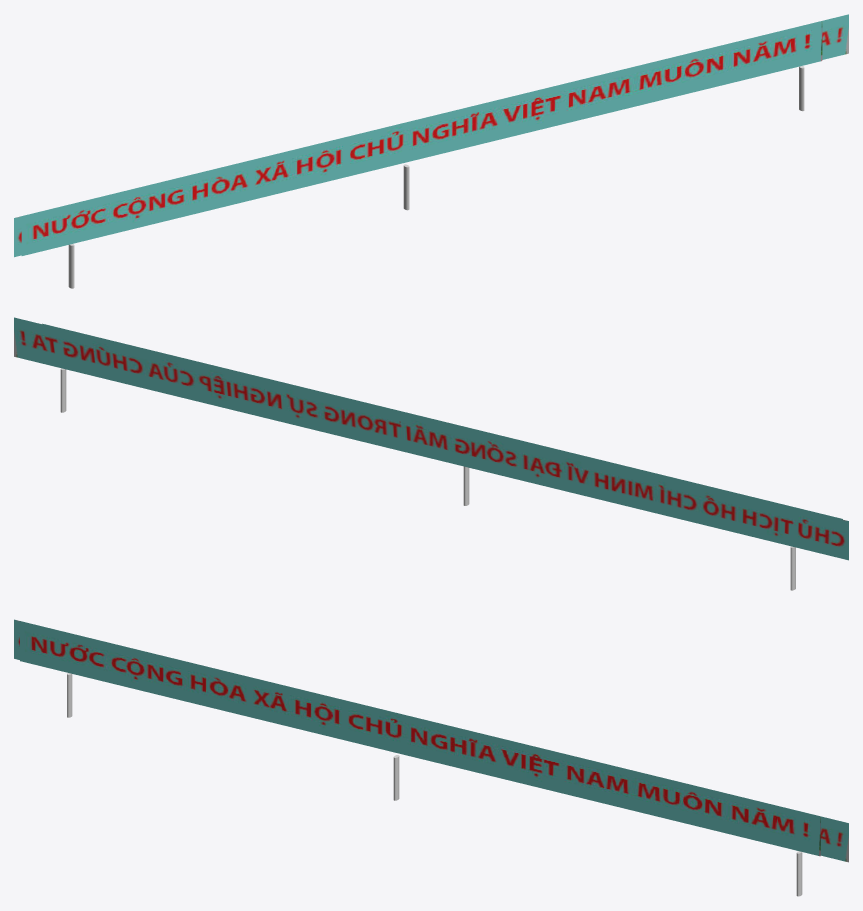
File: banner2.glb
3 views of the same model, one above another, from view 1: azimuth 30°, elevation 25°; view 2: azimuth 150°, elevation 25°; view 3: azimuth 330°, elevation 25° (orthographic).
Parts seen in each view (by area): view 1: Screenshot 2023-11-28 154038, Screenshot 2023-11-29 163435; view 2: Screenshot 2023-11-29 163435, Screenshot 2023-11-28 154038; view 3: Screenshot 2023-11-28 154038, Screenshot 2023-11-29 163435.
Part boxes in pixels (x1,y1,x2,y2): Screenshot 2023-11-28 154038: (21, 22, 822, 255); Screenshot 2023-11-29 163435: (14, 14, 848, 257); Screenshot 2023-11-29 163435: (14, 317, 848, 560); Screenshot 2023-11-28 154038: (42, 323, 842, 519); Screenshot 2023-11-28 154038: (20, 622, 820, 856); Screenshot 2023-11-29 163435: (14, 619, 848, 862).
Bounding box in the file's own units: 22.24 × 2.11 × 0.3672.
Materials: 2 (2 with a texture image).
